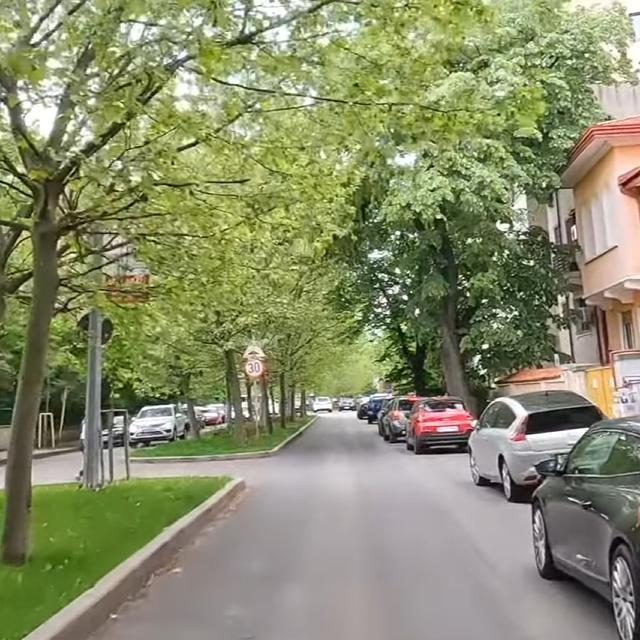forb_speed_over_30: (244, 358, 264, 378)
